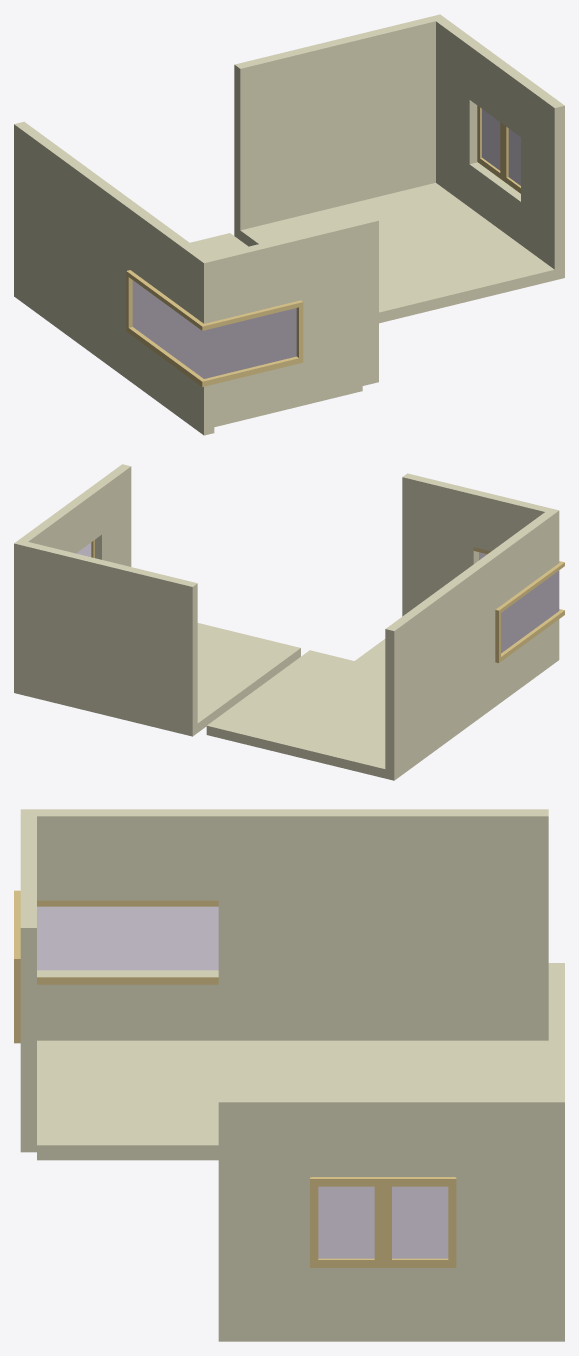
The picture shows the model from 3 angles, top to bottom: view 1: azimuth 30°, elevation 25°; view 2: azimuth 150°, elevation 25°; view 3: azimuth 270°, elevation 25°; orthographic projection. The views are drawn at different scales.
Visible parts, largest first — view 1: Cube.004, Cube.005, 卧室窗.004; view 2: Cube.005, Cube.004; view 3: Cube.005, Cube.004, 卧室窗.004.
Boxes of the visible parts, box(x1,y1,x2,y2) form: Cube.004: box(234, 14, 564, 323); Cube.005: box(14, 121, 378, 435); 卧室窗.004: box(477, 105, 520, 193); Cube.005: box(206, 473, 564, 780); Cube.004: box(14, 464, 300, 736); Cube.005: box(14, 809, 548, 1160); Cube.004: box(218, 963, 564, 1341); 卧室窗.004: box(310, 1177, 456, 1267).
Bounding box in the file's own units: 8.52 × 3.2 × 6.68.
